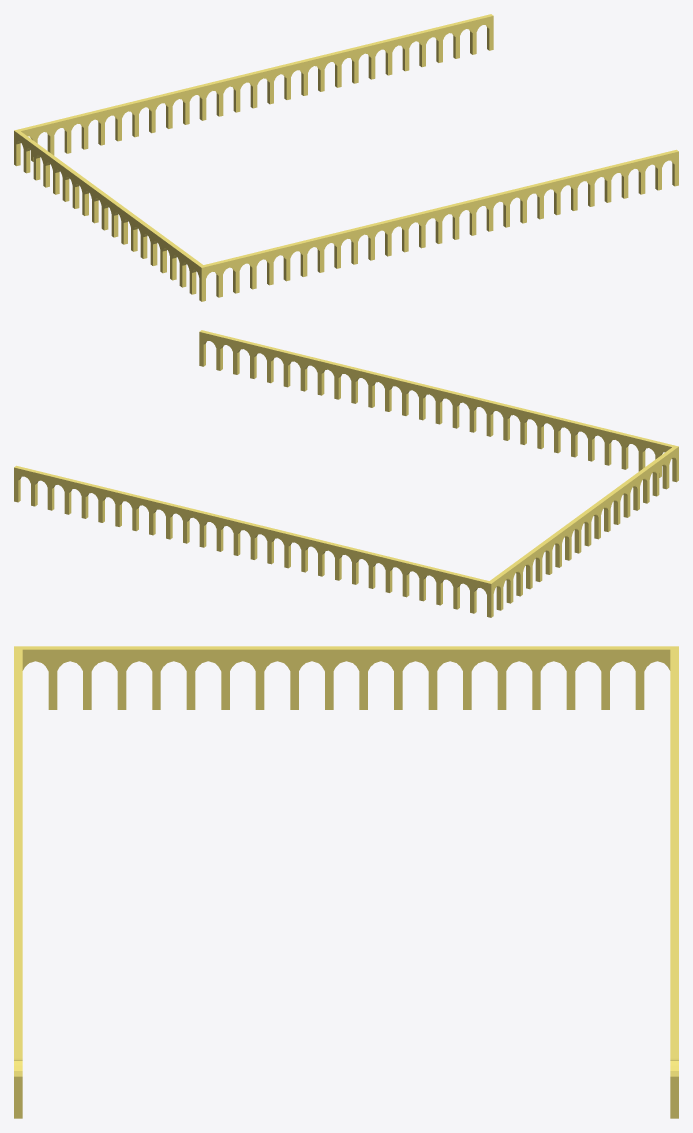
File: Arches.fbx
3 renders of one model, top to bottom at view 1: azimuth 30°, elevation 25°; view 2: azimuth 150°, elevation 25°; view 3: azimuth 270°, elevation 25°, orthographic. The views are drawn at different scales.
Visible parts, largest first — view 1: Box081; view 2: Box081; view 3: Box081.
Boxes of the visible parts, x1=… form: Box081: x1=14, y1=14, x2=678, y2=301; Box081: x1=14, y1=330, x2=678, y2=617; Box081: x1=14, y1=646, x2=678, y2=1118.
Bounding box in the file's own units: 4449 × 3032 × 303.
